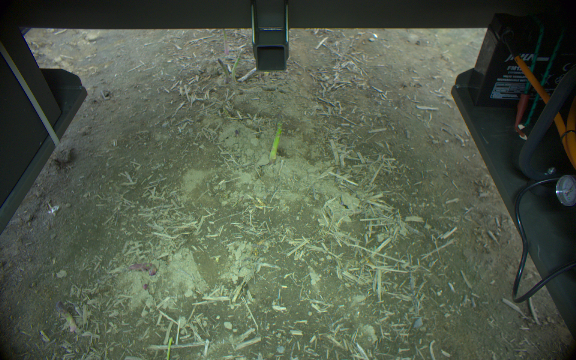aspa: (54, 299, 77, 334), (268, 121, 283, 158), (232, 48, 246, 81), (216, 57, 229, 80), (220, 29, 229, 56), (164, 335, 173, 360)
